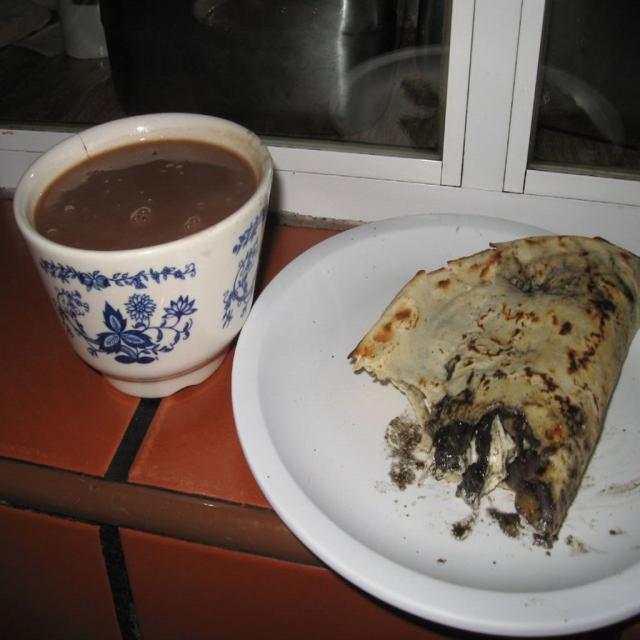Tea: (34, 142, 262, 248)
